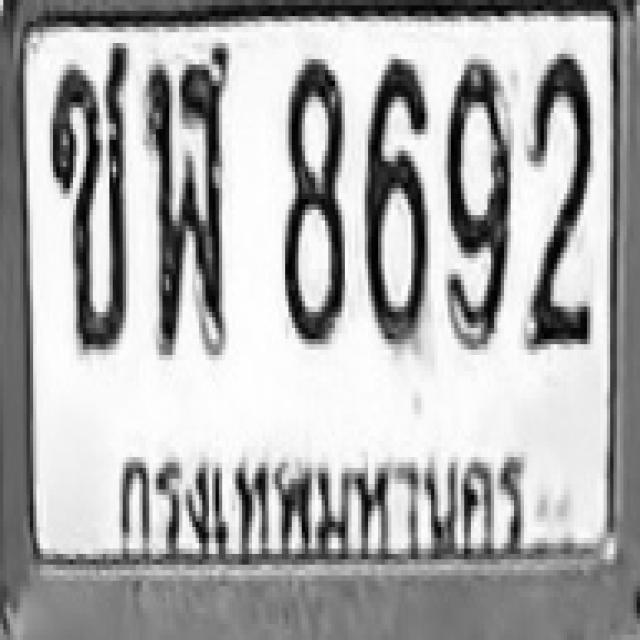0: (444, 51, 511, 347)
19ChorChang: (46, 38, 130, 350)
2: (524, 46, 590, 347)
51LorChula: (144, 38, 230, 355)
6: (361, 51, 428, 347)
8: (282, 54, 345, 344)
9: (444, 53, 511, 350)
Bangkok: (112, 434, 538, 570)
